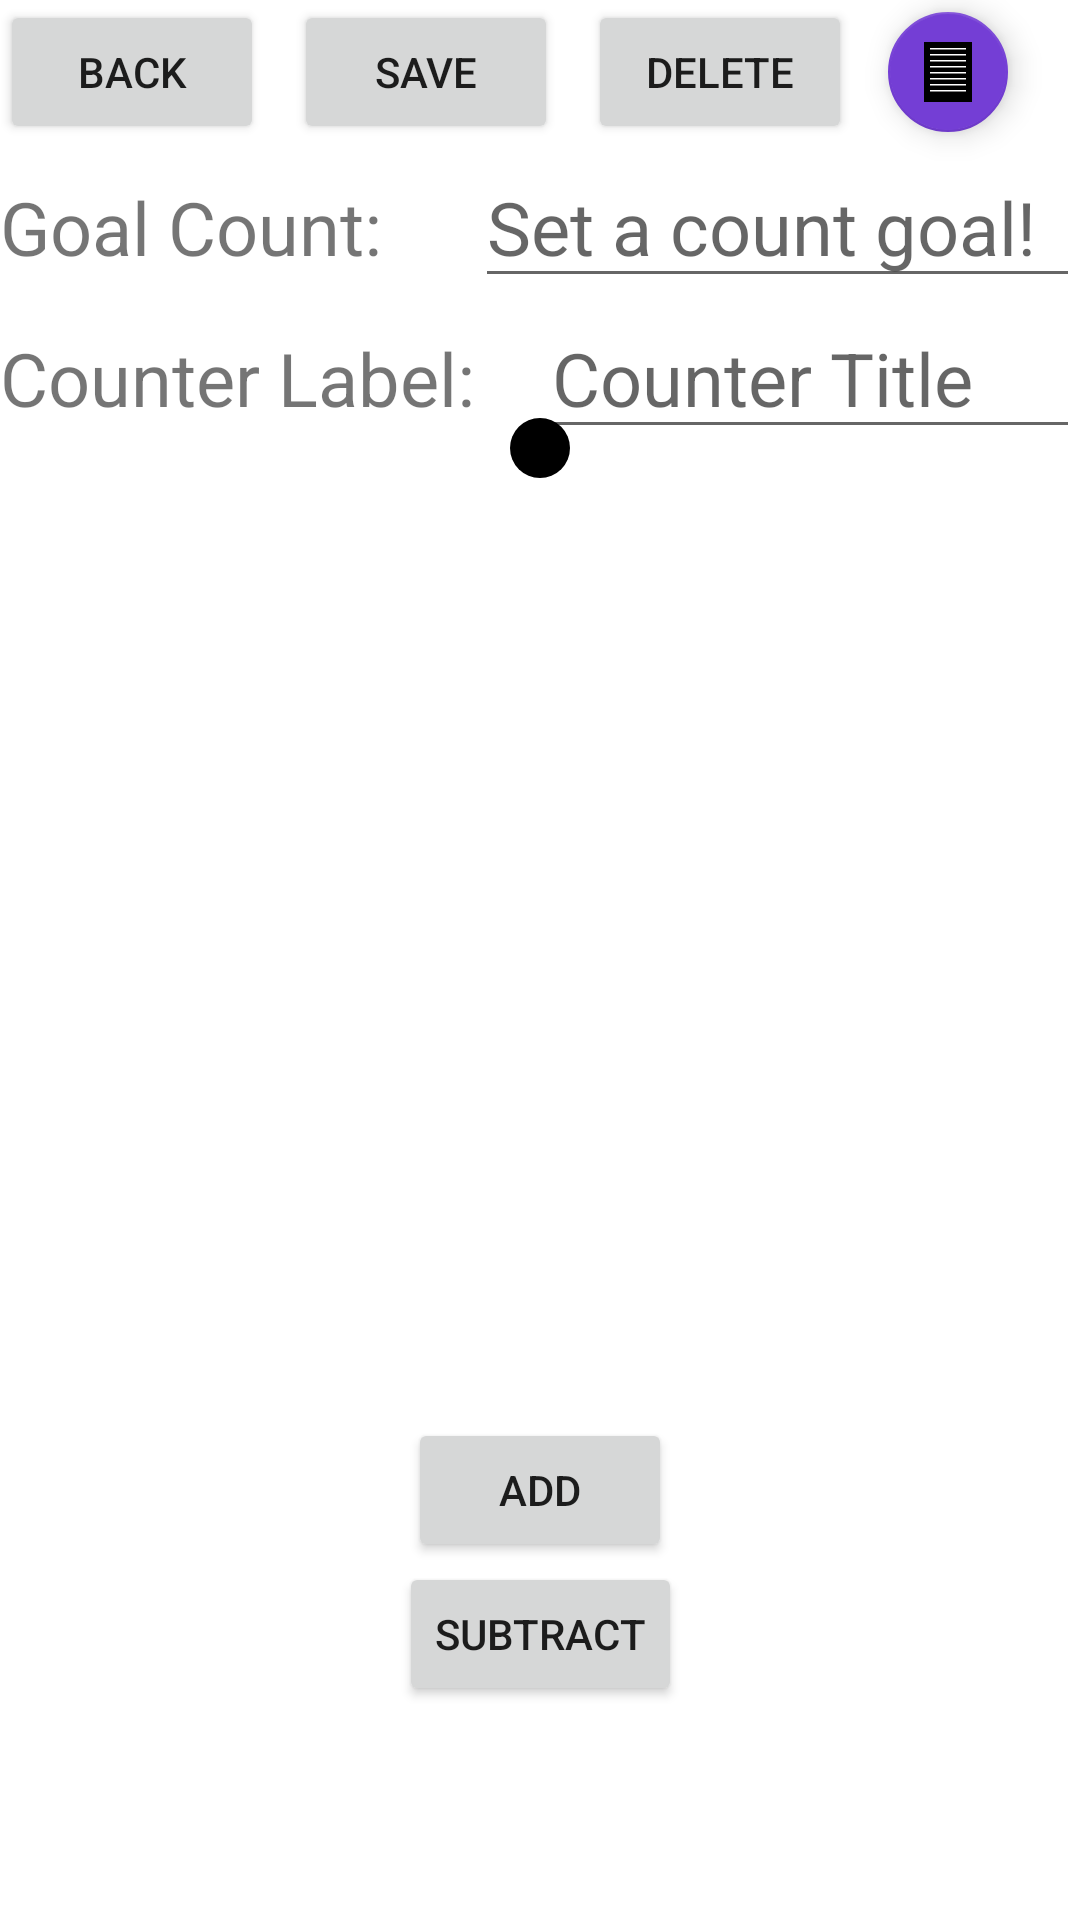

Named icons in this screenshot (1080x1920) and their bounding boxes, (x1, y1, x2, y2):
paper: (888, 12, 1010, 132)
